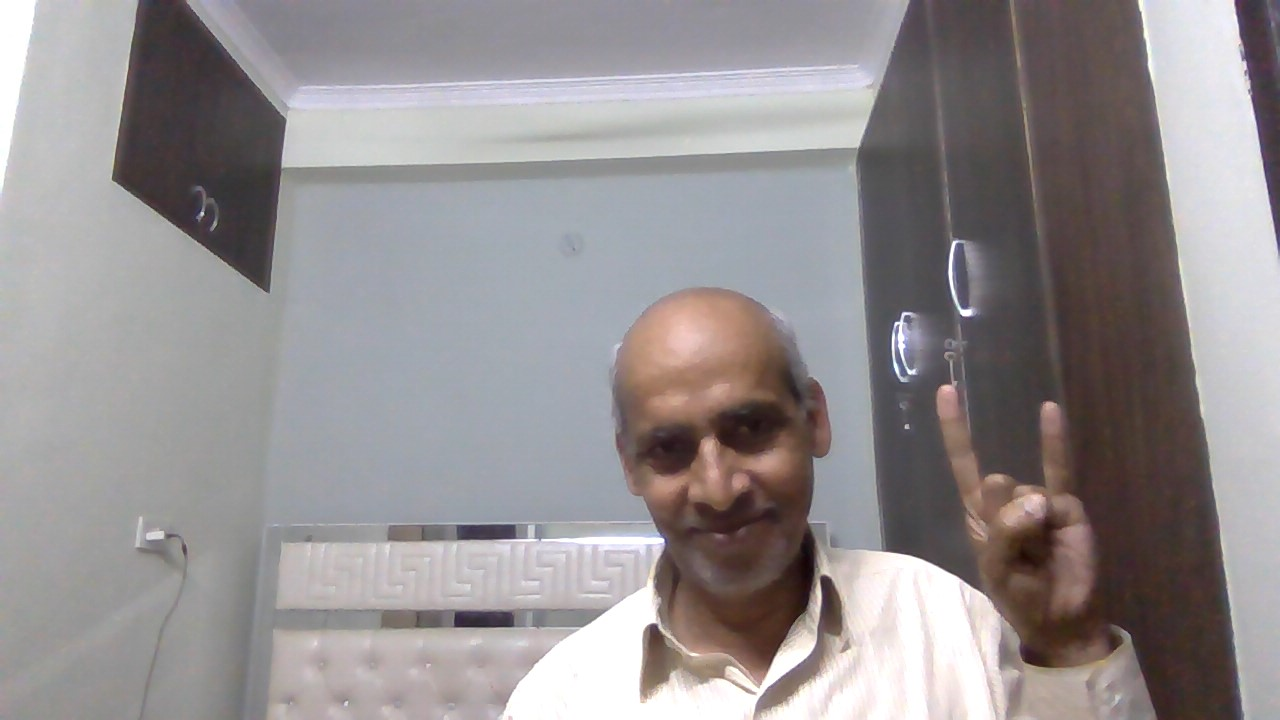Select All: (918, 375, 1117, 651)
